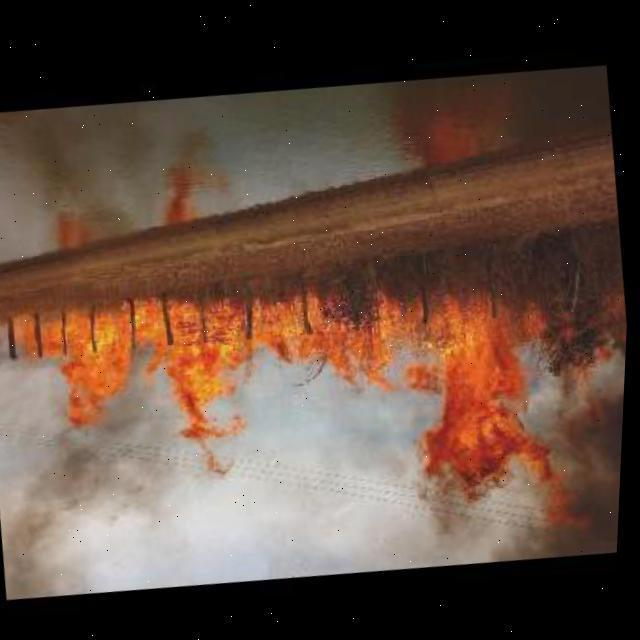fire: (0, 230, 632, 562), (0, 356, 198, 608), (492, 384, 628, 559)
